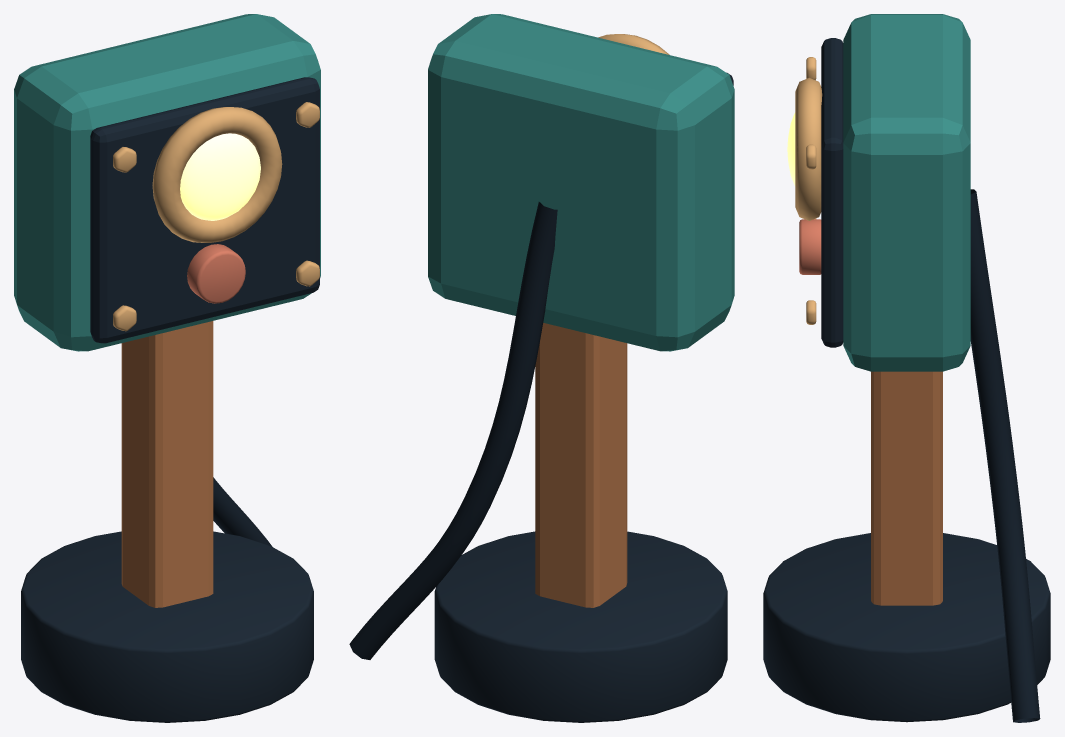
3 renders of one model, left to right at view 1: azimuth 30°, elevation 25°; view 2: azimuth 150°, elevation 25°; view 3: azimuth 270°, elevation 25°, orthographic. The views are drawn at different scales.
Parts seen in each view (by area): view 1: PR002_flanged_foot, PR002_cabinet, PR002_face, PR002_stem, PR002_power_bezel, PR002_power_lens, PR002_call_button, PR002_power_feed, PR002_face_bolt.002, PR002_face_bolt, PR002_face_bolt.001, PR002_face_bolt.003; view 2: PR002_cabinet, PR002_flanged_foot, PR002_stem, PR002_power_feed; view 3: PR002_cabinet, PR002_flanged_foot, PR002_stem, PR002_power_feed, PR002_face, PR002_power_bezel, PR002_call_button, PR002_power_lens.
Part boxes in pixels (box(x1,y1,x2,y2)): PR002_flanged_foot: box(21, 531, 313, 722); PR002_cabinet: box(14, 14, 320, 351); PR002_face: box(90, 77, 319, 343); PR002_stem: box(121, 321, 213, 607); PR002_power_bezel: box(152, 107, 282, 242); PR002_power_lens: box(180, 133, 260, 220); PR002_call_button: box(187, 244, 245, 303); PR002_power_feed: box(213, 477, 272, 546); PR002_face_bolt.002: box(296, 260, 319, 286); PR002_face_bolt: box(113, 305, 136, 331); PR002_face_bolt.001: box(113, 147, 136, 172); PR002_face_bolt.003: box(296, 102, 319, 127); PR002_cabinet: box(428, 14, 734, 351); PR002_flanged_foot: box(434, 531, 727, 722); PR002_stem: box(535, 323, 627, 607); PR002_power_feed: box(349, 202, 557, 659); PR002_cabinet: box(843, 14, 970, 371); PR002_flanged_foot: box(763, 533, 1050, 722); PR002_stem: box(871, 371, 942, 605); PR002_power_feed: box(970, 189, 1040, 722); PR002_face: box(821, 38, 843, 347); PR002_power_bezel: box(795, 78, 822, 220); PR002_call_button: box(799, 219, 821, 274); PR002_power_lens: box(787, 112, 795, 186).
Bounding box in the file's own units: 0.8538 × 1.65 × 0.72.
